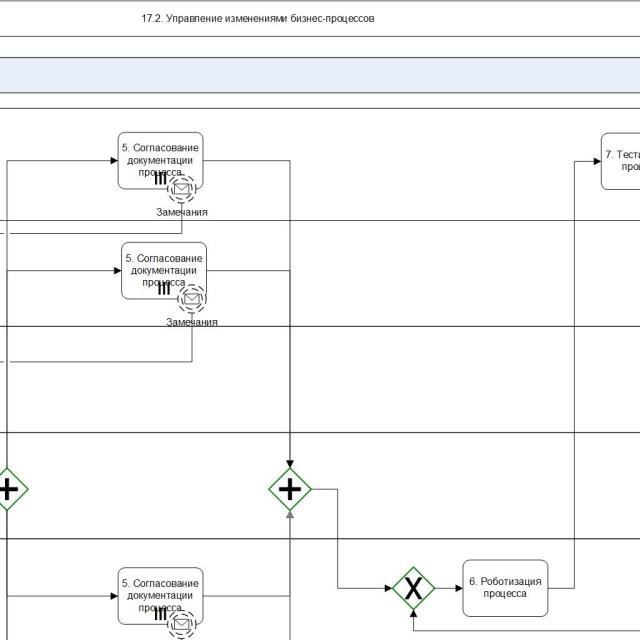arrow: (4, 156, 119, 467), (204, 158, 296, 468), (3, 266, 122, 467), (548, 156, 602, 590), (207, 268, 295, 468), (4, 510, 118, 602), (311, 487, 392, 593), (204, 511, 295, 598), (434, 583, 463, 593)
diamond: (268, 467, 312, 512), (392, 566, 436, 610)
rectangle: (117, 131, 204, 190), (121, 241, 207, 300), (117, 567, 204, 625), (462, 559, 548, 617)
text_region: (155, 205, 209, 219), (165, 315, 219, 328)
